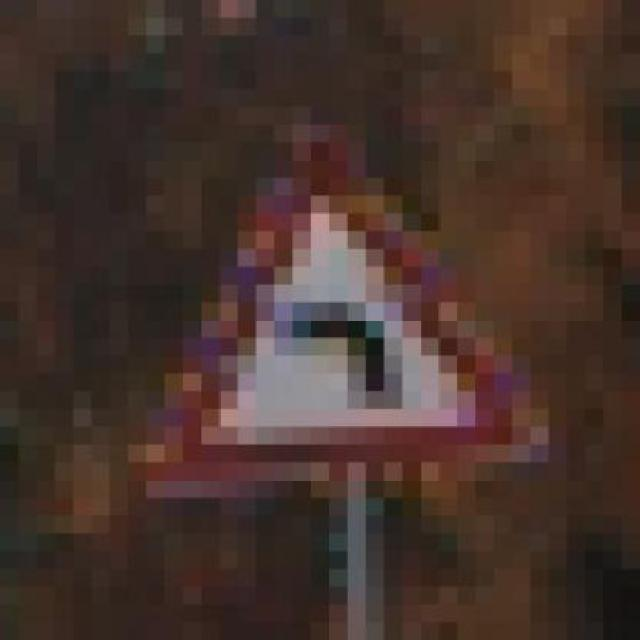Dangerous Left Curve Ahead: (110, 107, 567, 498)
